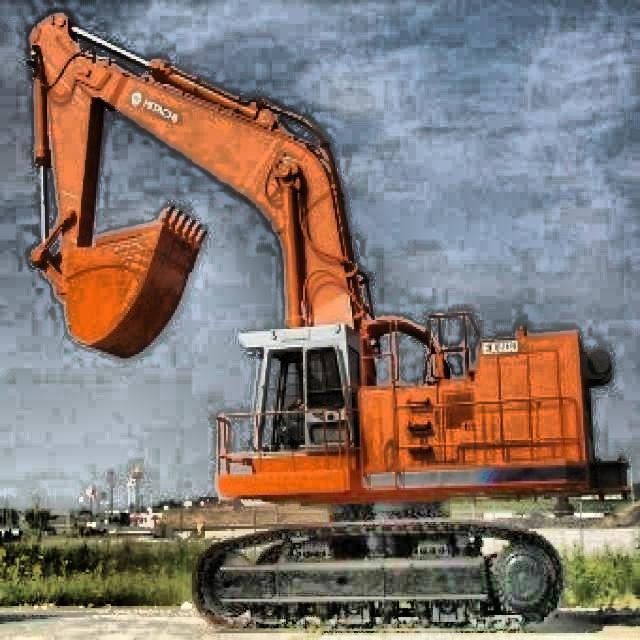bull_dozer/loader/grader: (20, 10, 630, 633)
person: (294, 358, 326, 403)
